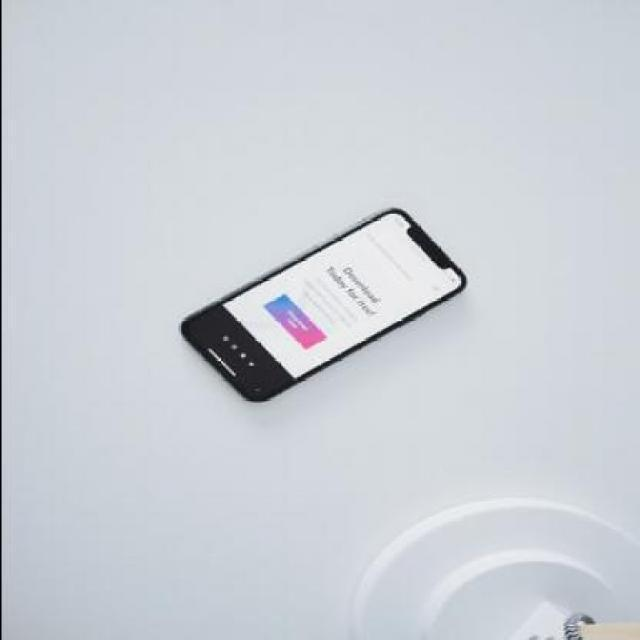phone: (165, 205, 463, 403)
